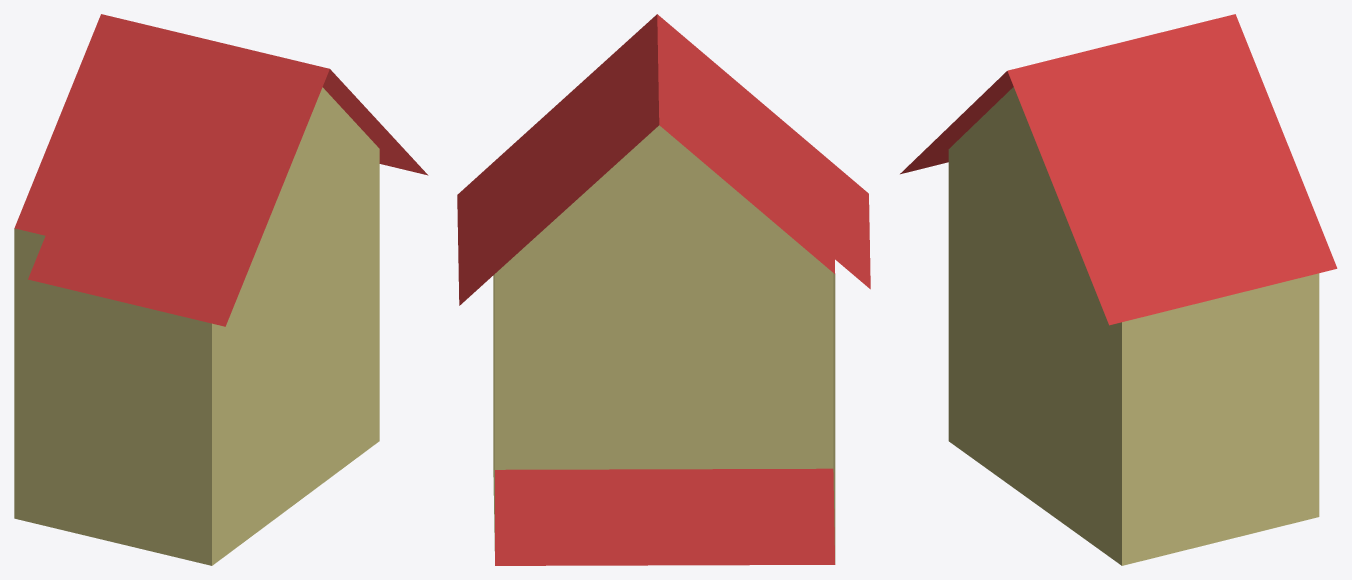
3 renders of one model, left to right at view 1: azimuth 30°, elevation 25°; view 2: azimuth 150°, elevation 25°; view 3: azimuth 270°, elevation 25°, orthographic.
Bounding box in the file's own units: 9.84 × 9.12 × 10.17.
